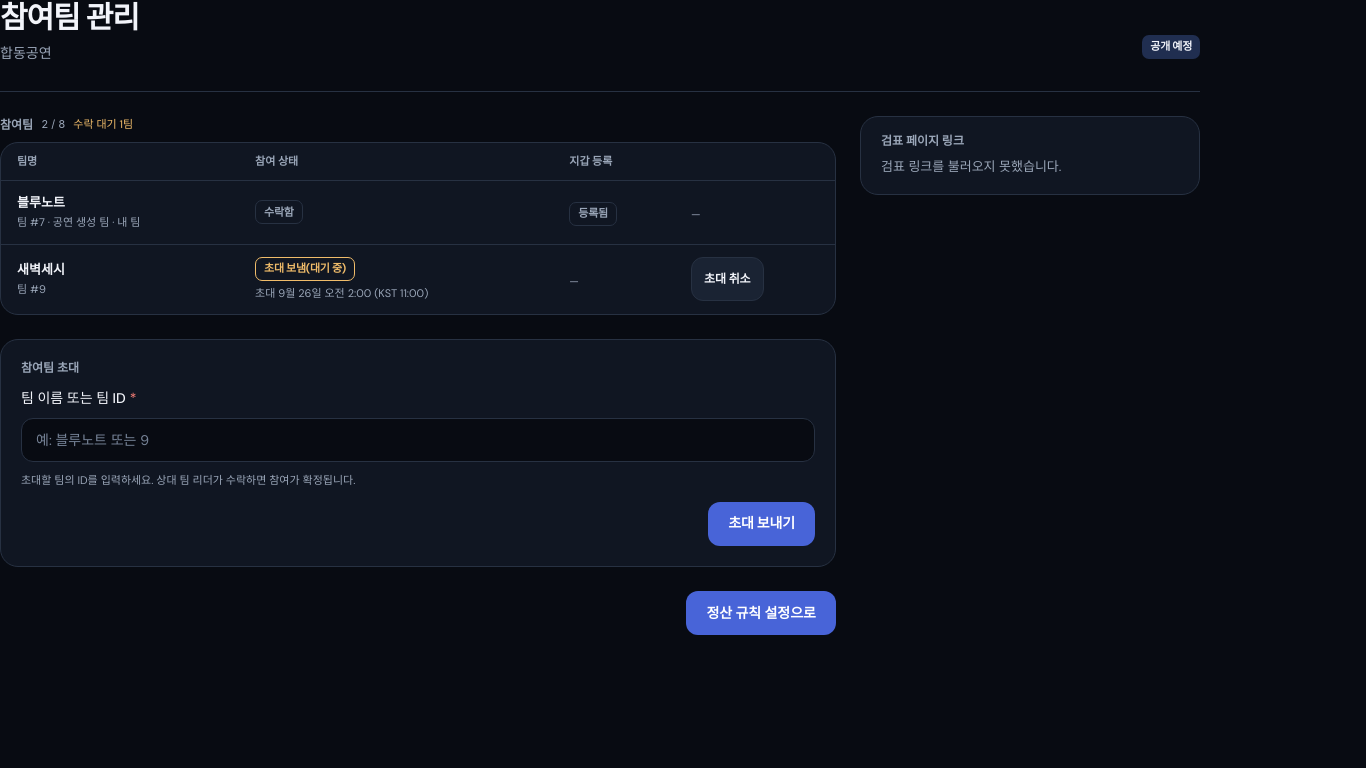
it: 초대 현황 › 대기 중·수락함 배지와 초대 시각을 보이고, 대기 중인 초대는 취소 버튼을 준다
Expected: the text "초대 보냄(대기 중)" is shown, [255,257,355,281]
Expected: the text "수락함" is shown, [255,200,303,224]
Click the button "초대 취소" at (727, 279), box [691,257,764,301]
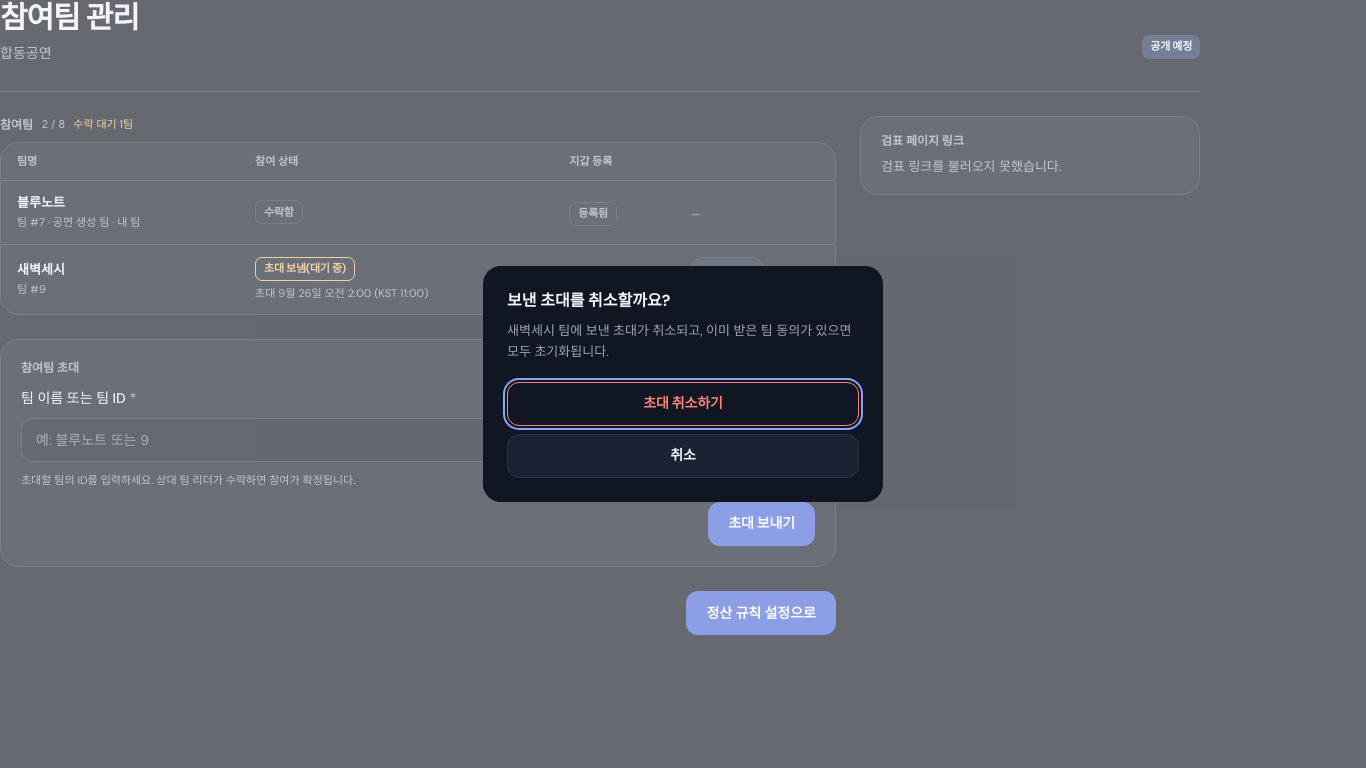
Expected: the heading "보낸 초대를 취소할까요?" is shown, [507,290,670,311]
